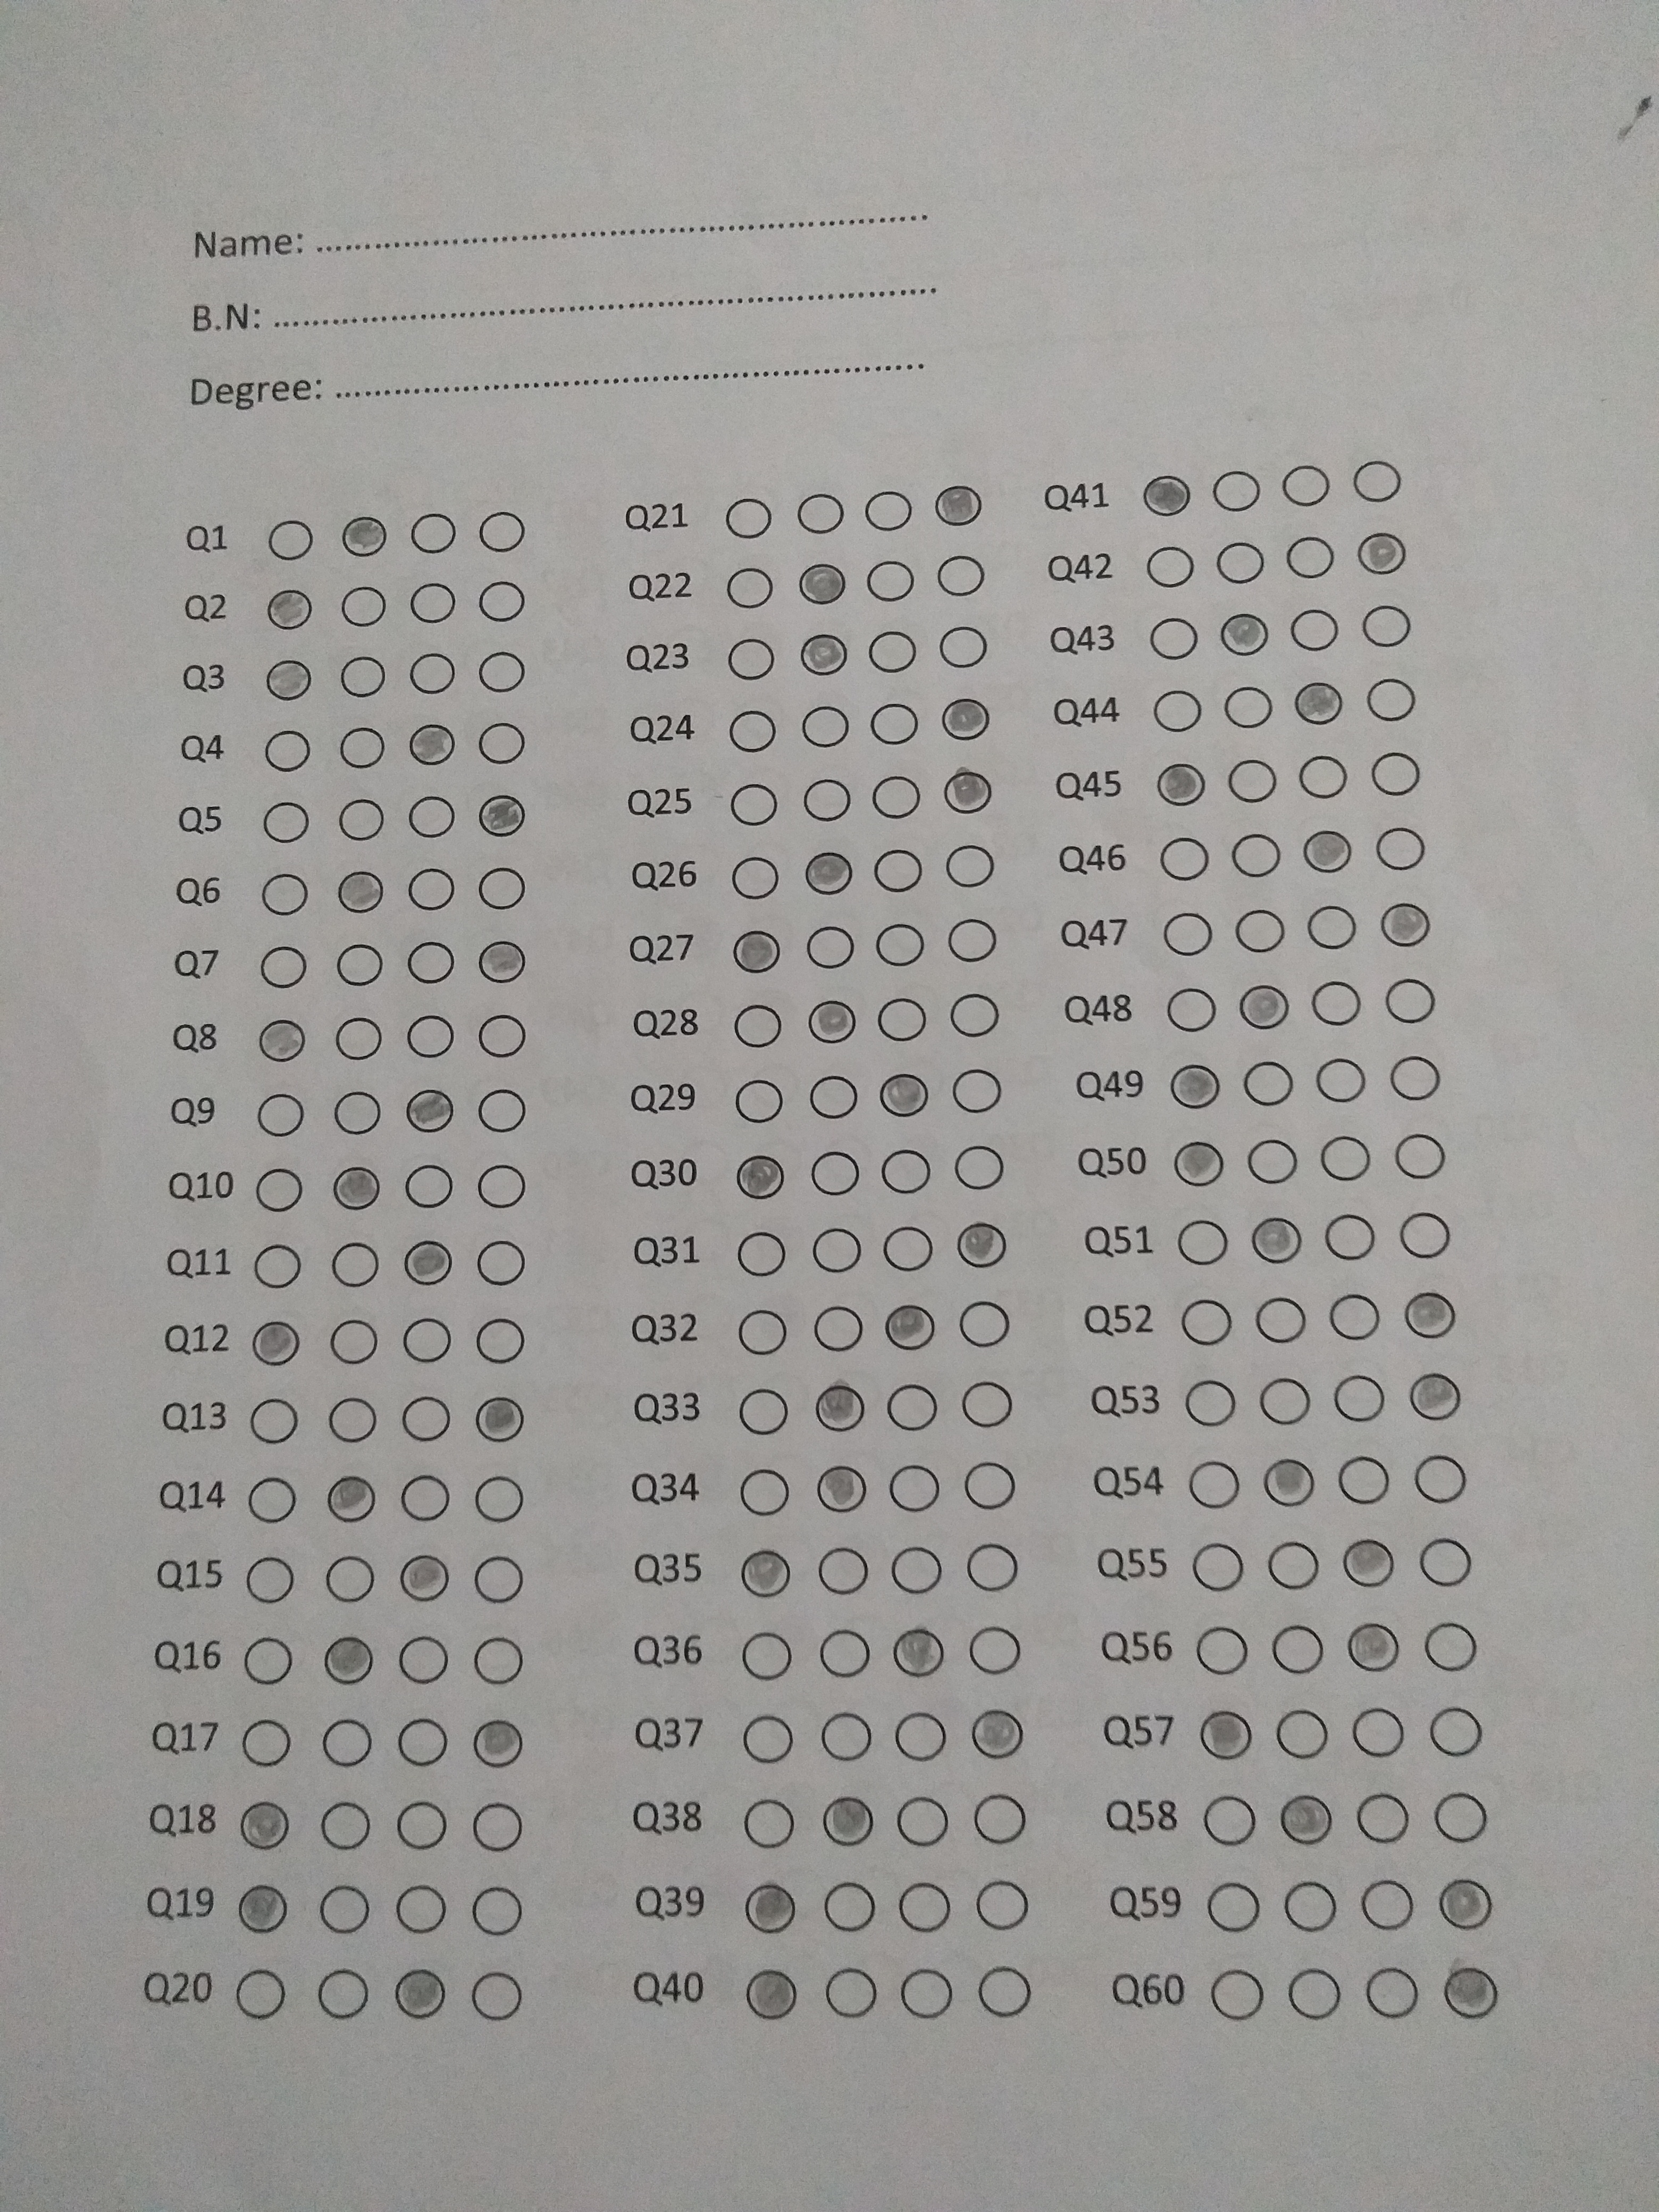not-c: (469, 1972, 523, 2019), (474, 1012, 528, 1059), (329, 942, 383, 989), (254, 944, 308, 991), (472, 866, 526, 913), (254, 869, 308, 916), (406, 794, 460, 841), (258, 799, 312, 846), (477, 719, 532, 766), (261, 726, 315, 773), (406, 650, 460, 697), (476, 577, 530, 624), (404, 580, 458, 627), (476, 509, 530, 556), (399, 1475, 453, 1522), (326, 1397, 380, 1444), (399, 1317, 453, 1364), (472, 1240, 526, 1287), (249, 1242, 303, 1289), (317, 1970, 371, 2017), (467, 1886, 521, 1933), (471, 1635, 525, 1683), (392, 1803, 446, 1850), (239, 1719, 293, 1766), (397, 1635, 451, 1683), (802, 925, 856, 972), (943, 845, 997, 892), (870, 848, 924, 895), (727, 780, 781, 827), (866, 629, 920, 676), (936, 552, 990, 599), (863, 559, 917, 606), (721, 568, 775, 615), (791, 491, 845, 538), (720, 498, 774, 545), (814, 1305, 868, 1352), (732, 1230, 786, 1277), (880, 1148, 934, 1195), (807, 1151, 861, 1198), (950, 1066, 1004, 1113), (807, 1073, 861, 1120), (732, 1076, 786, 1123), (948, 991, 1002, 1038), (734, 1001, 788, 1049), (739, 1801, 793, 1848), (739, 1634, 793, 1681), (885, 1547, 939, 1594), (816, 1548, 870, 1595), (958, 1381, 1012, 1428), (976, 1883, 1030, 1930), (897, 1885, 951, 1932), (821, 1883, 875, 1930), (972, 1794, 1026, 1841), (1373, 826, 1427, 873), (1229, 831, 1283, 878), (1155, 834, 1209, 881), (1150, 686, 1204, 733), (1358, 601, 1412, 648), (1290, 608, 1344, 655), (1145, 617, 1199, 664), (1284, 533, 1338, 580), (1141, 545, 1195, 592), (1331, 1374, 1385, 1421), (1328, 1294, 1382, 1341), (1255, 1294, 1309, 1341), (1180, 1299, 1234, 1346), (1323, 1214, 1377, 1261), (1246, 1137, 1300, 1184), (1389, 1054, 1443, 1101), (1243, 1059, 1297, 1106), (1310, 979, 1364, 1026), (1206, 1885, 1260, 1932), (1429, 1792, 1483, 1839), (1427, 1709, 1481, 1756), (1351, 1709, 1405, 1756), (1424, 1623, 1478, 1670), (1270, 1623, 1324, 1670), (1419, 1540, 1473, 1587), (1188, 1543, 1243, 1590), (1338, 1456, 1392, 1503), (1209, 1972, 1263, 2019), (1361, 1881, 1415, 1928), (265, 516, 317, 563), (474, 1165, 526, 1212), (403, 1162, 455, 1209), (251, 1167, 303, 1214), (329, 1089, 382, 1136), (403, 1014, 455, 1061), (329, 1015, 382, 1062), (404, 941, 457, 988), (404, 866, 457, 913), (336, 796, 389, 843), (336, 725, 389, 772), (476, 648, 528, 695), (406, 509, 458, 556), (474, 1557, 526, 1604), (242, 1555, 295, 1602), (476, 1475, 528, 1522), (246, 1475, 298, 1522), (401, 1395, 453, 1442), (474, 1318, 526, 1366), (329, 1320, 382, 1367), (234, 1972, 286, 2019), (471, 1803, 523, 1850), (317, 1801, 369, 1848), (397, 1719, 450, 1766), (322, 1719, 375, 1766), (240, 1635, 293, 1683), (824, 1968, 877, 2015), (945, 916, 997, 963), (875, 923, 927, 970), (730, 853, 782, 900), (868, 773, 920, 820), (800, 777, 852, 824), (868, 700, 920, 747), (798, 702, 850, 749), (727, 707, 779, 754), (938, 624, 990, 671), (725, 636, 777, 683), (863, 488, 915, 535), (885, 1383, 938, 1430), (739, 1390, 791, 1437), (958, 1301, 1011, 1348), (880, 1224, 932, 1271), (812, 1226, 864, 1273), (951, 1143, 1004, 1190), (875, 996, 927, 1043), (896, 1797, 948, 1844), (741, 1716, 793, 1763), (892, 1714, 945, 1761), (819, 1712, 871, 1759), (969, 1627, 1021, 1674), (819, 1630, 871, 1677), (965, 1545, 1018, 1592), (964, 1461, 1016, 1508), (887, 1465, 939, 1512), (978, 1968, 1030, 2015), (901, 1968, 953, 2015), (1161, 911, 1213, 958), (1368, 752, 1420, 799), (1227, 758, 1279, 805), (1364, 678, 1417, 725), (1215, 540, 1267, 587), (1349, 458, 1401, 505), (1279, 462, 1331, 509), (1208, 465, 1260, 512), (1188, 1460, 1241, 1507), (1258, 1378, 1310, 1425), (1183, 1379, 1236, 1426), (1398, 1211, 1450, 1258), (1176, 1219, 1229, 1266), (1319, 1134, 1371, 1181), (1316, 1055, 1368, 1103), (1384, 977, 1436, 1024), (1164, 988, 1216, 1035), (1234, 907, 1286, 954), (1358, 1794, 1410, 1841), (1204, 1797, 1256, 1844), (1274, 1710, 1326, 1757), (1195, 1629, 1248, 1676), (1267, 1541, 1319, 1588), (1415, 1456, 1467, 1503), (1364, 1970, 1417, 2017), (1286, 1970, 1338, 2017), (1284, 1883, 1337, 1930), (474, 1089, 528, 1134), (254, 1090, 308, 1136), (335, 653, 389, 698), (336, 585, 390, 631), (322, 1557, 376, 1602), (246, 1399, 300, 1444), (329, 1242, 383, 1287), (394, 1886, 448, 1932), (317, 1886, 371, 1932), (735, 1310, 789, 1355), (1293, 754, 1347, 799), (1220, 686, 1274, 732), (1394, 1134, 1448, 1179), (1303, 906, 1358, 951), (737, 1468, 789, 1514)
taken-c: (1441, 1965, 1500, 2022), (1436, 1878, 1495, 1932), (744, 1968, 800, 2022), (1279, 1791, 1335, 1844), (1197, 1707, 1253, 1761), (1344, 1536, 1398, 1592), (469, 1716, 523, 1770), (812, 1379, 866, 1433), (971, 1705, 1025, 1759), (237, 1881, 289, 1937), (1262, 1454, 1317, 1507), (401, 1235, 455, 1287), (884, 1301, 938, 1353), (739, 1548, 793, 1601), (892, 1625, 946, 1677), (821, 1796, 875, 1848), (394, 1968, 446, 2022), (1405, 1287, 1459, 1339), (326, 1472, 378, 1524), (399, 1550, 451, 1602), (322, 1634, 375, 1686), (744, 1881, 796, 1933), (237, 1801, 291, 1851), (953, 1219, 1007, 1270), (814, 1463, 868, 1514), (1237, 981, 1291, 1031), (1347, 1622, 1401, 1672), (1408, 1371, 1462, 1421), (1377, 899, 1432, 948), (1166, 1062, 1222, 1111), (1171, 1139, 1227, 1188), (878, 1069, 931, 1120), (1291, 678, 1345, 726), (1251, 1216, 1305, 1264), (477, 935, 530, 984), (403, 1083, 455, 1132), (338, 514, 392, 561), (941, 768, 995, 815), (802, 850, 856, 897), (472, 1397, 526, 1444), (734, 1153, 788, 1200), (1300, 829, 1354, 876), (732, 927, 782, 975), (1358, 528, 1408, 577), (1154, 761, 1206, 808), (408, 719, 457, 768), (336, 867, 385, 916), (477, 791, 528, 838), (331, 1163, 382, 1211), (807, 998, 857, 1045), (796, 563, 849, 608), (938, 697, 990, 742), (256, 1017, 308, 1062), (1218, 613, 1270, 658), (1140, 474, 1194, 517), (251, 1318, 300, 1366), (265, 658, 315, 704), (934, 484, 983, 528), (802, 632, 850, 676), (267, 589, 314, 631)
